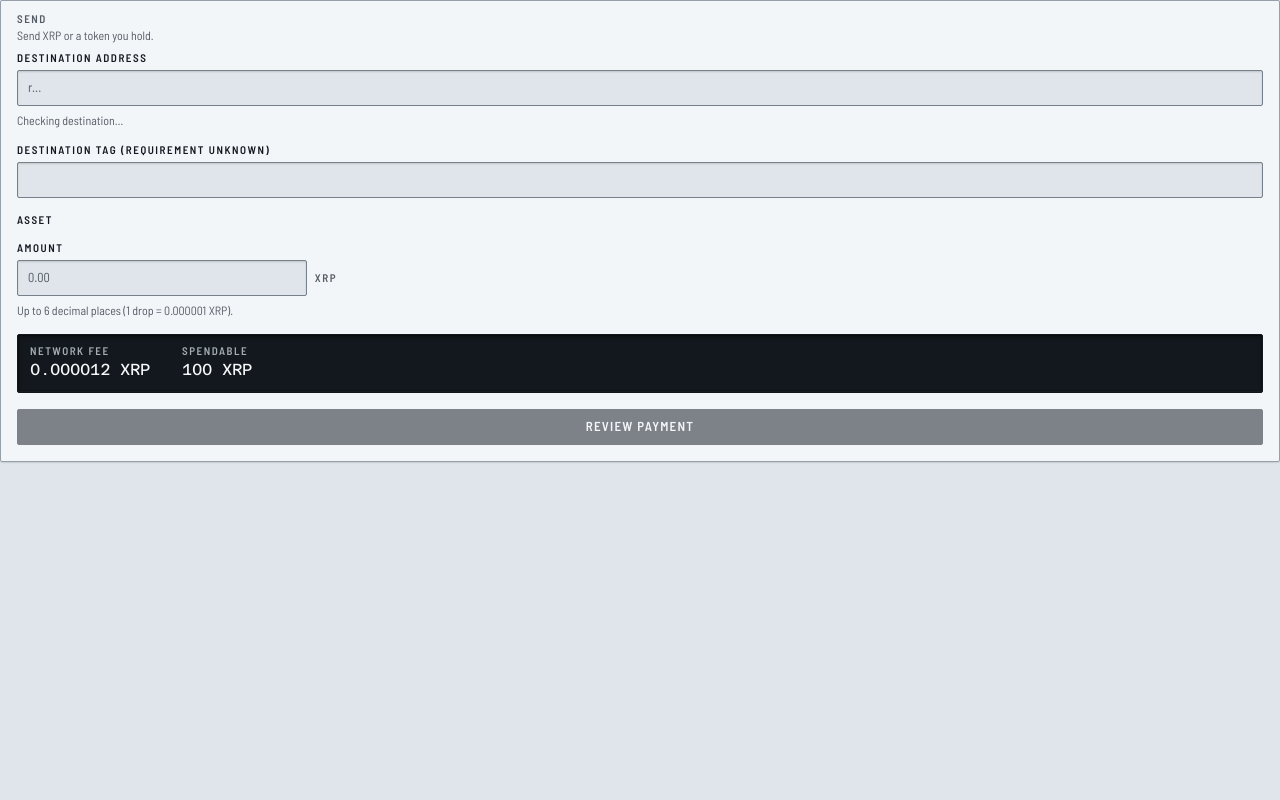
Test case: SendTab — the warning is decided on the network too › pre-epic-9 entry, tagless send: warns with the generic copy
Step 1. Type "rHb9CJAWyB4rj91VRWn96DkukG4bwdtyTh" into the field labelled "Destination address" → (640, 88), box [17,70,1263,106]
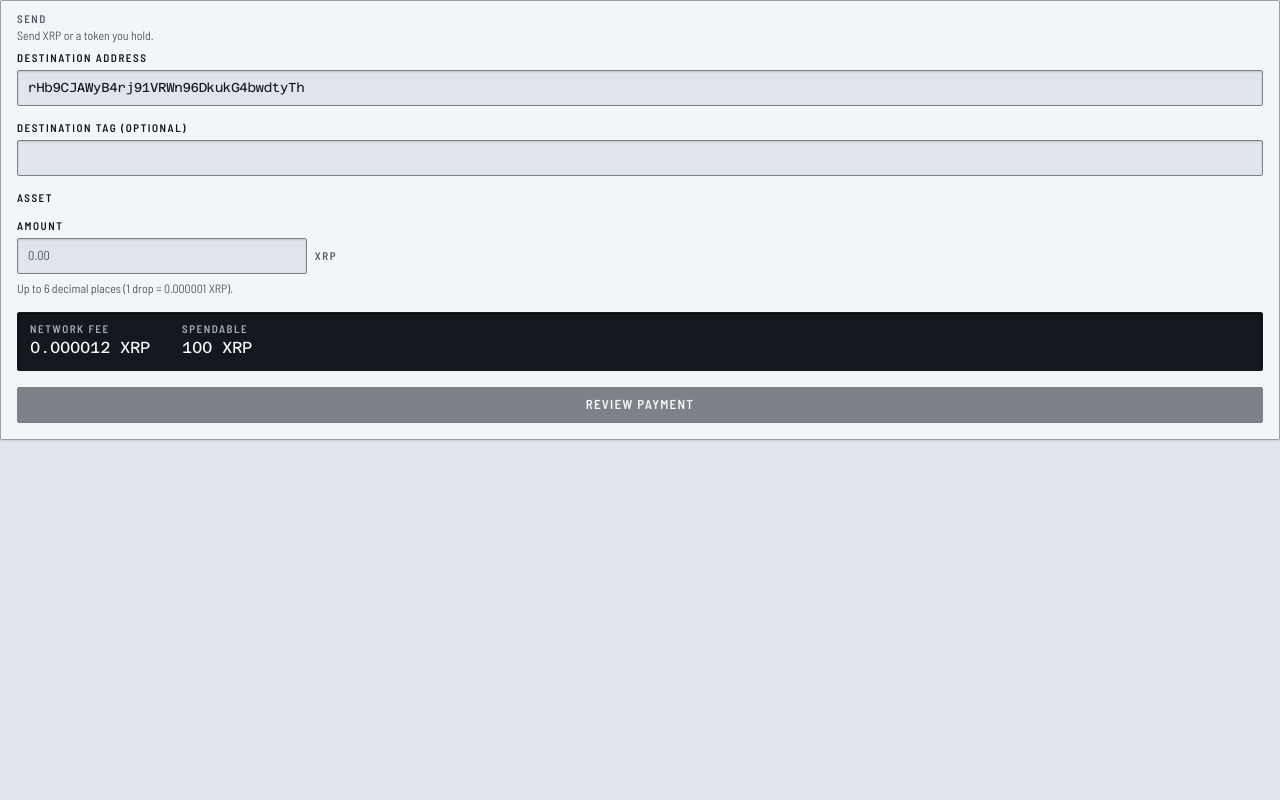
Step 2. Type "1" into the field labelled "Amount" → (162, 256), box [17,238,307,274]
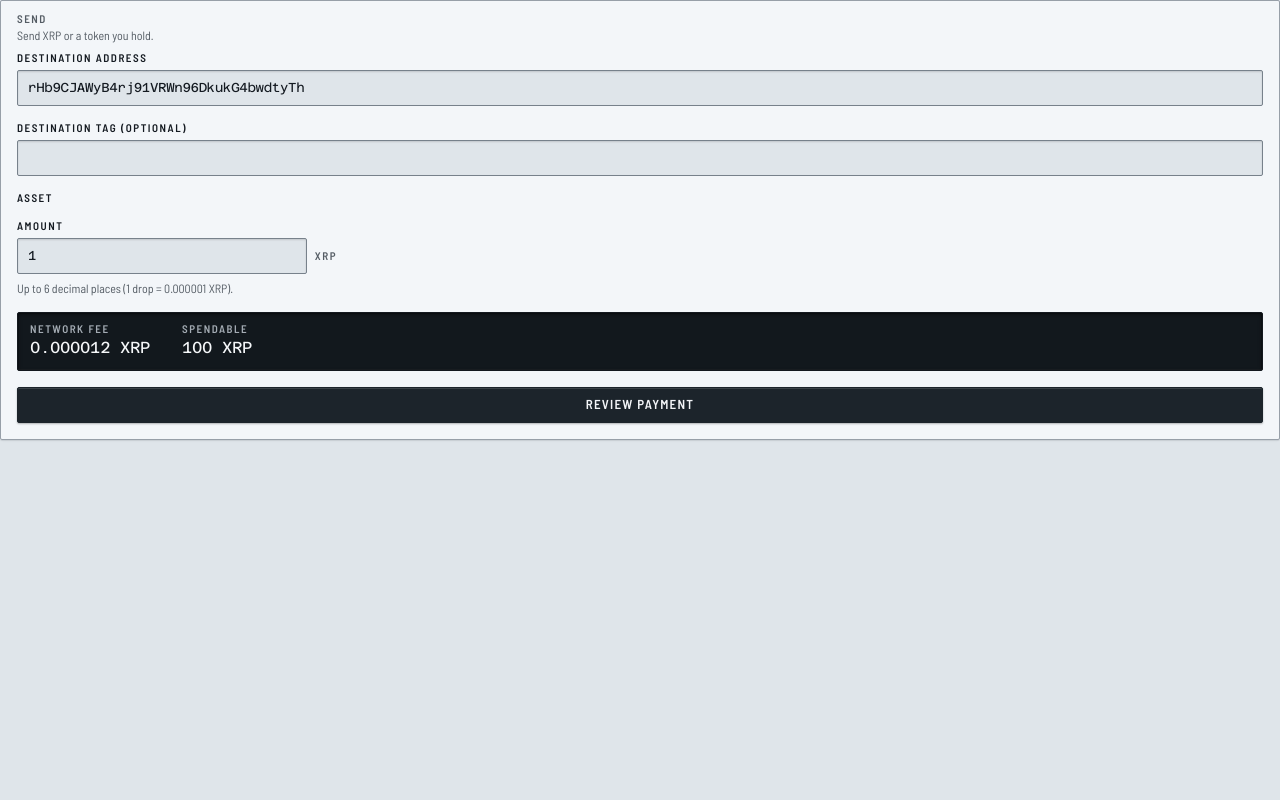
Step 3. Click the button "Review payment" → (640, 405), box [17,387,1263,423]
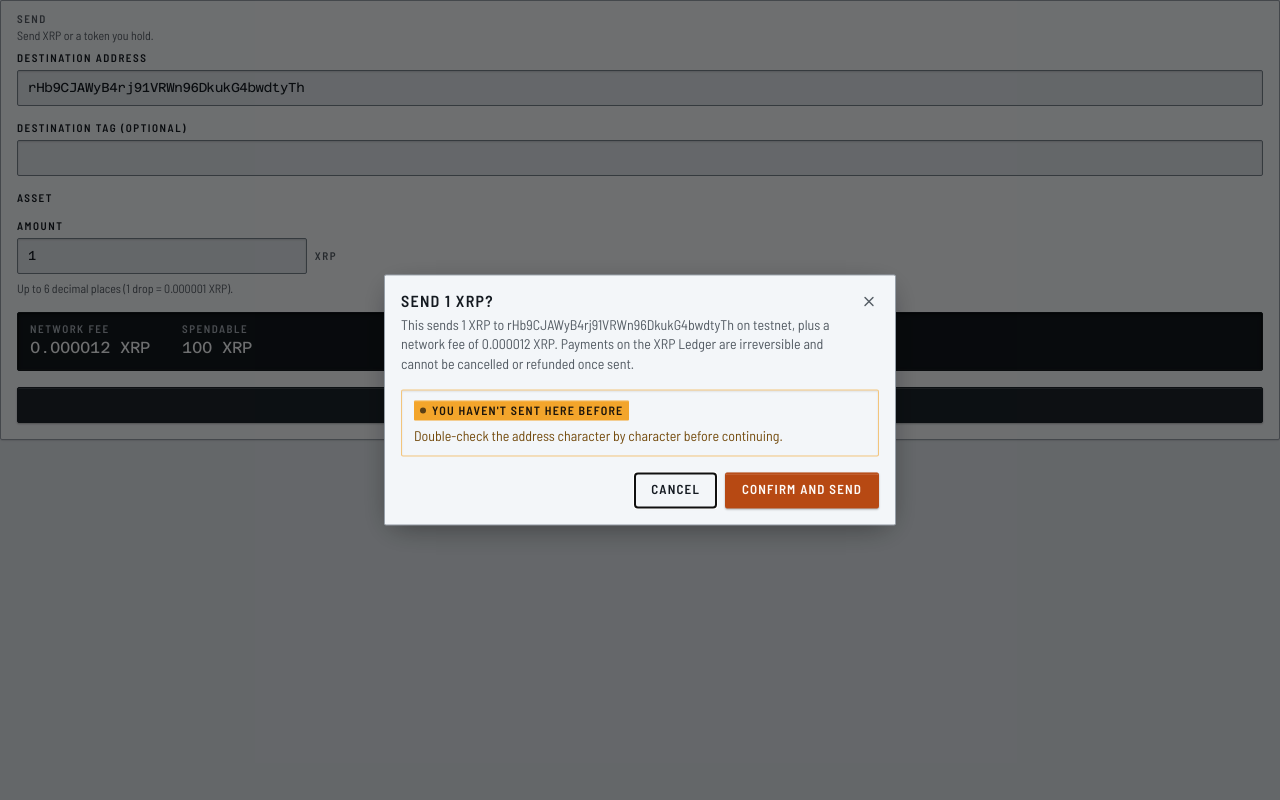
Result: the text "You haven't sent here before" is shown at [414,400,629,420]
Result: the text "character by character" is shown at [414,427,783,444]
